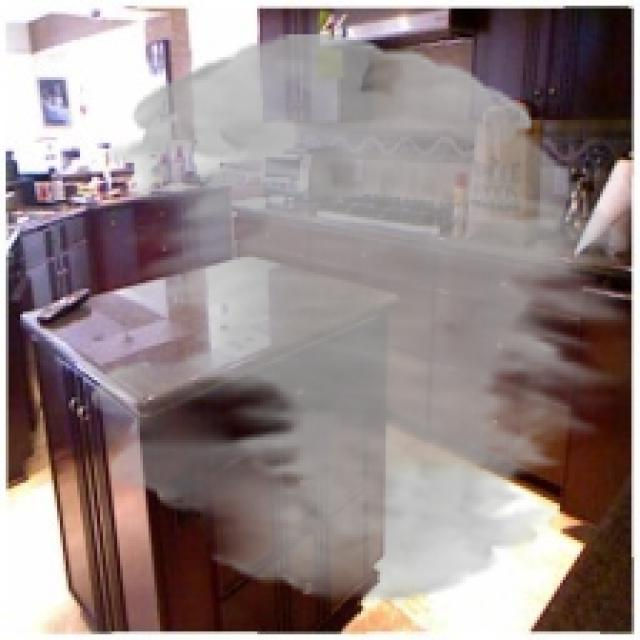smoke: (91, 34, 632, 603)
